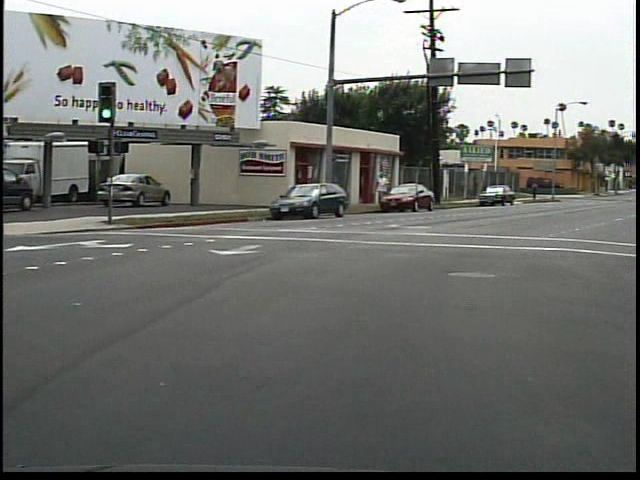person: (371, 166, 394, 211), (530, 179, 542, 205)
